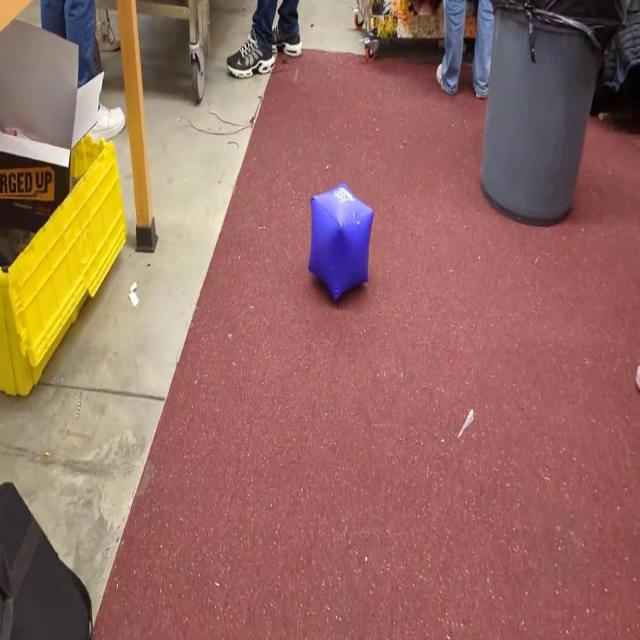frc_cube: (308, 178, 374, 306)
